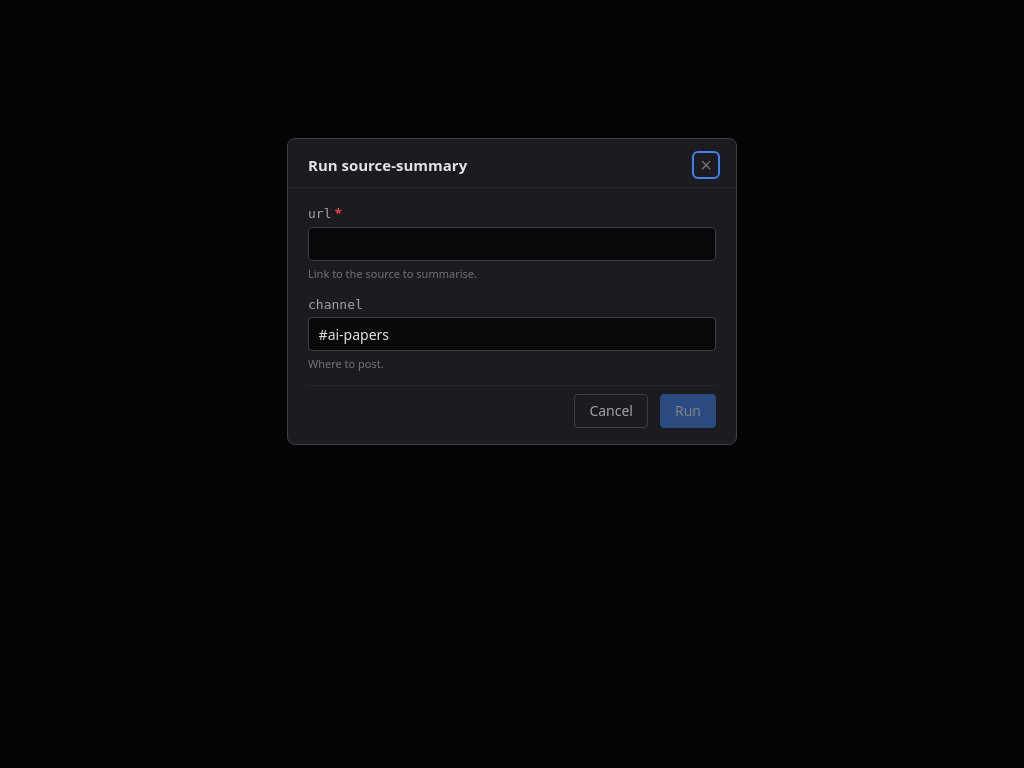
Test: RunWorkflowModal › shows a server 422 message inline
Type "https://example.com/paper" into the field named "url (required)" at x=512, y=244, box [308, 227, 716, 261]
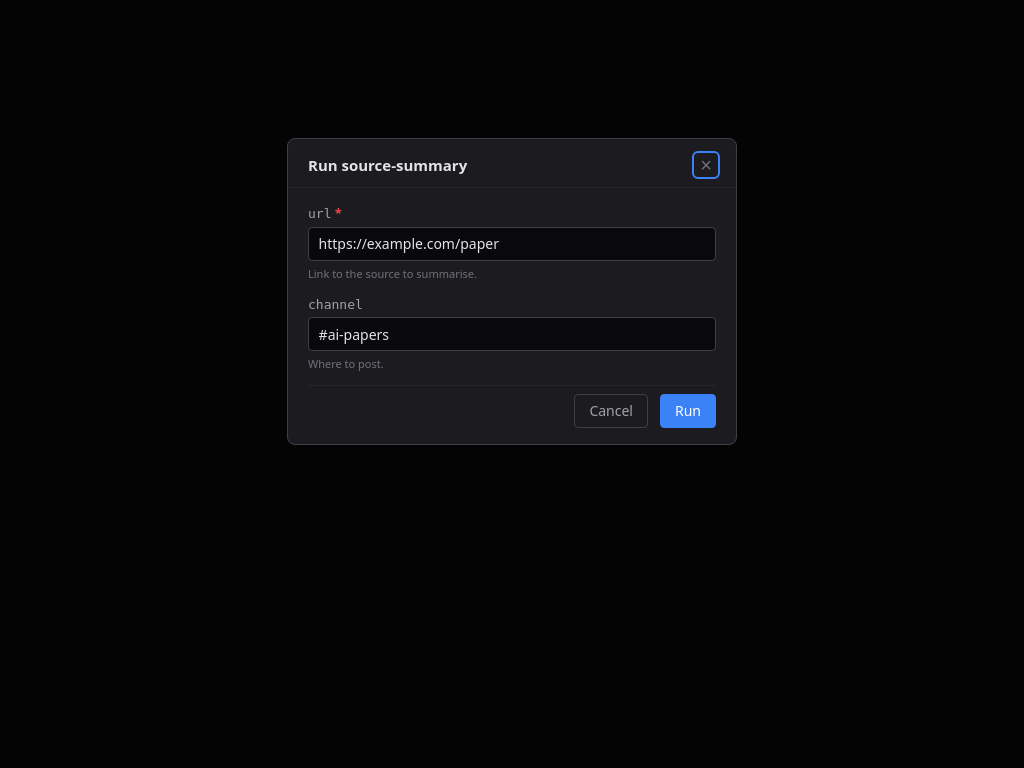
Click the button "Run" at x=688, y=411, box [660, 394, 716, 428]
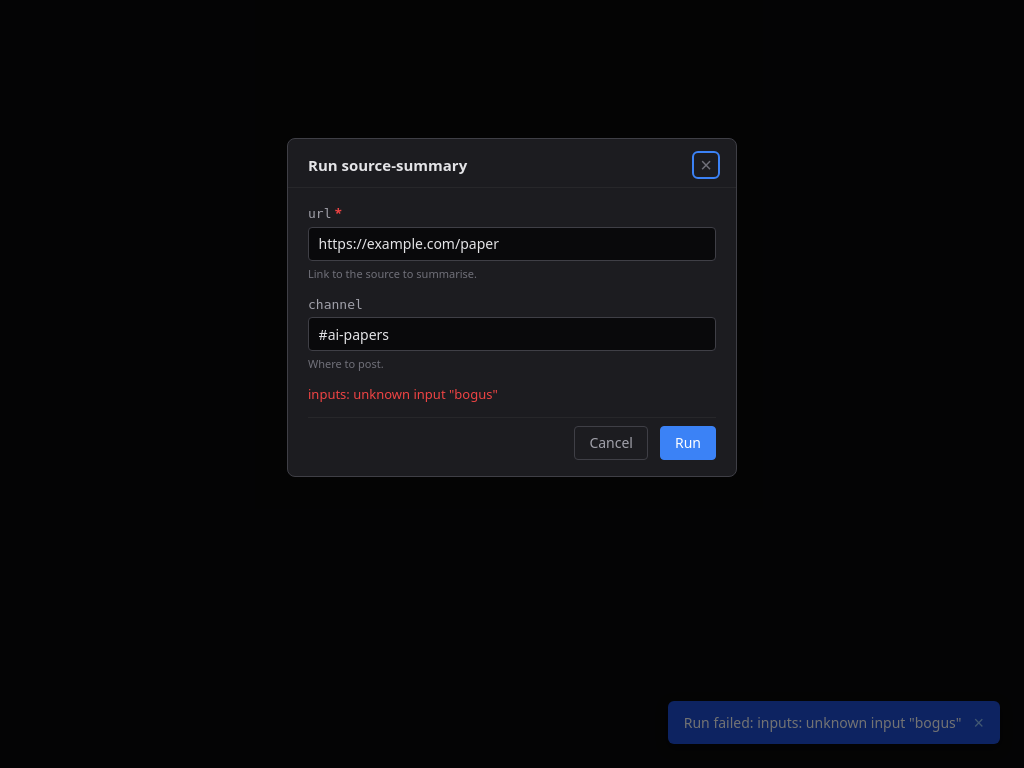
Now the message reads "inputs: unknown input \"bogus\"", box [308, 385, 498, 403]
